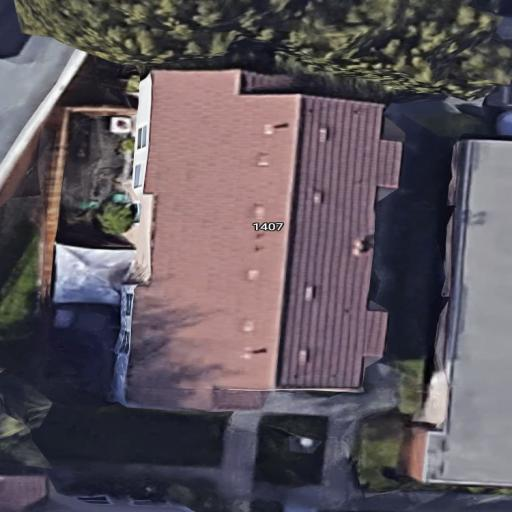Slope-Roof: (125, 71, 399, 412)
